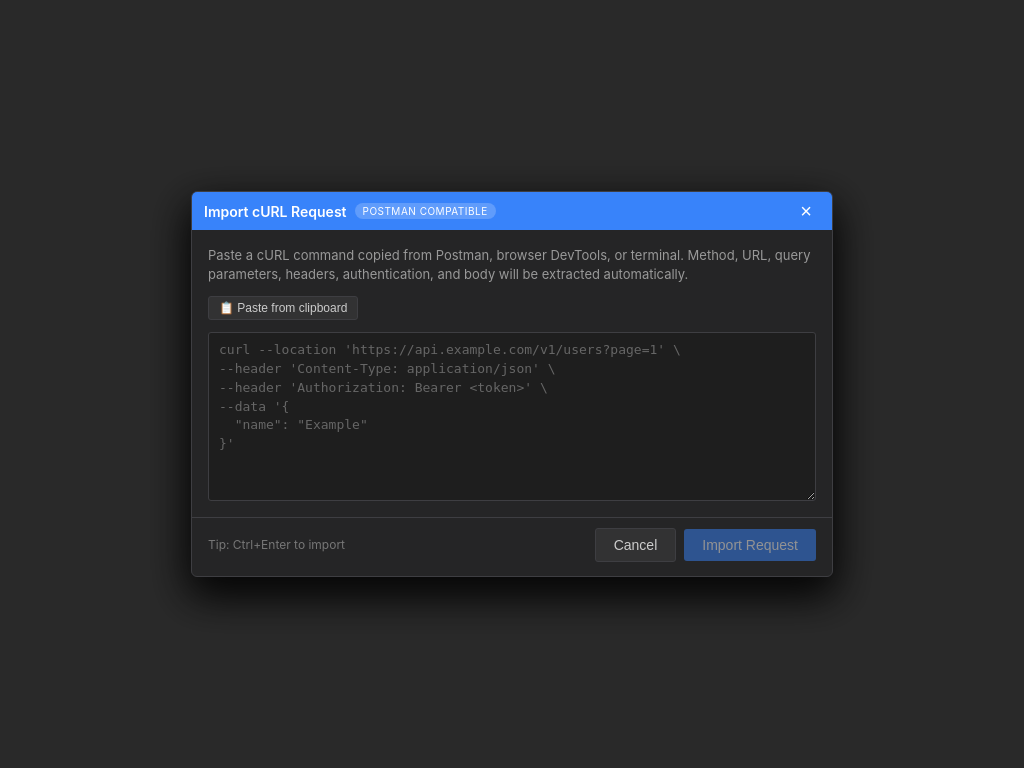
it: CurlImportModal › shows live preview when a valid curl command is entered
Replace the text in the text box with "curl --location 'https://api.example.com/users?page=1' --header 'Accept: application/json'" at (512, 416), box [208, 332, 816, 501]
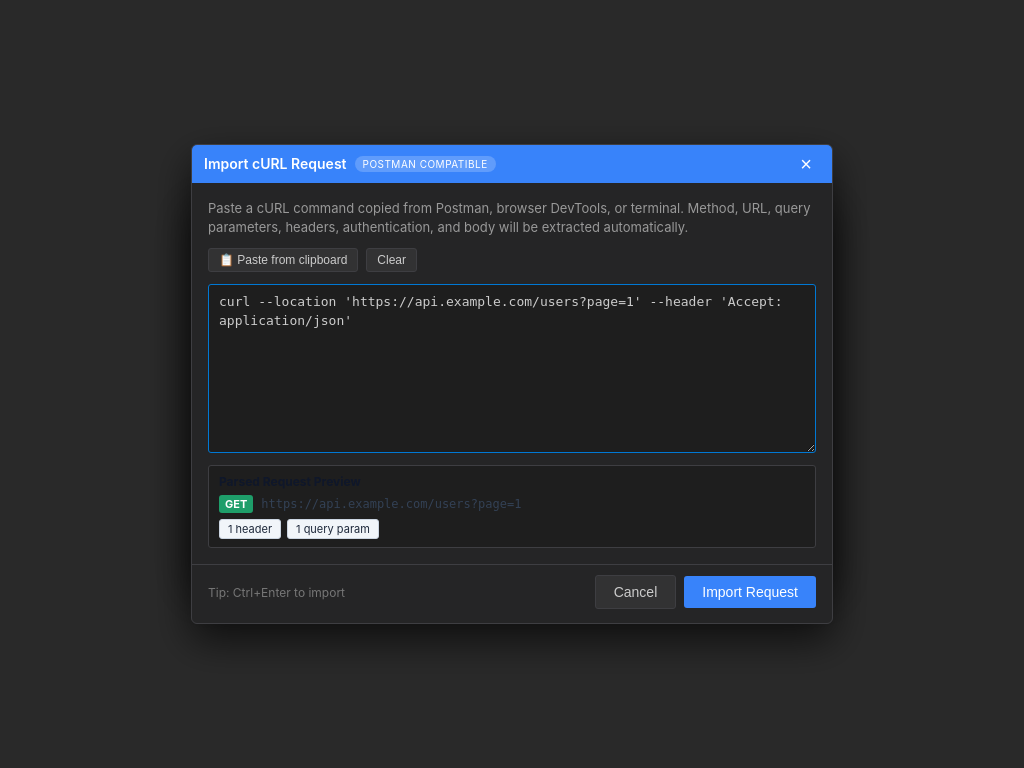
Check: the text "GET" is shown, box [219, 495, 253, 513]
Check: the text "1 header" is shown, box [219, 519, 281, 539]
Check: the text "1 query param" is shown, box [287, 519, 379, 539]
